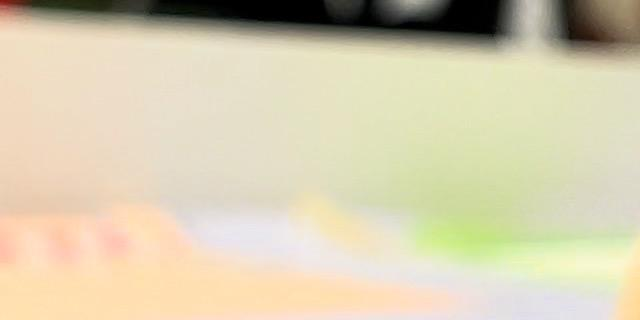burger: (479, 0, 640, 320)
